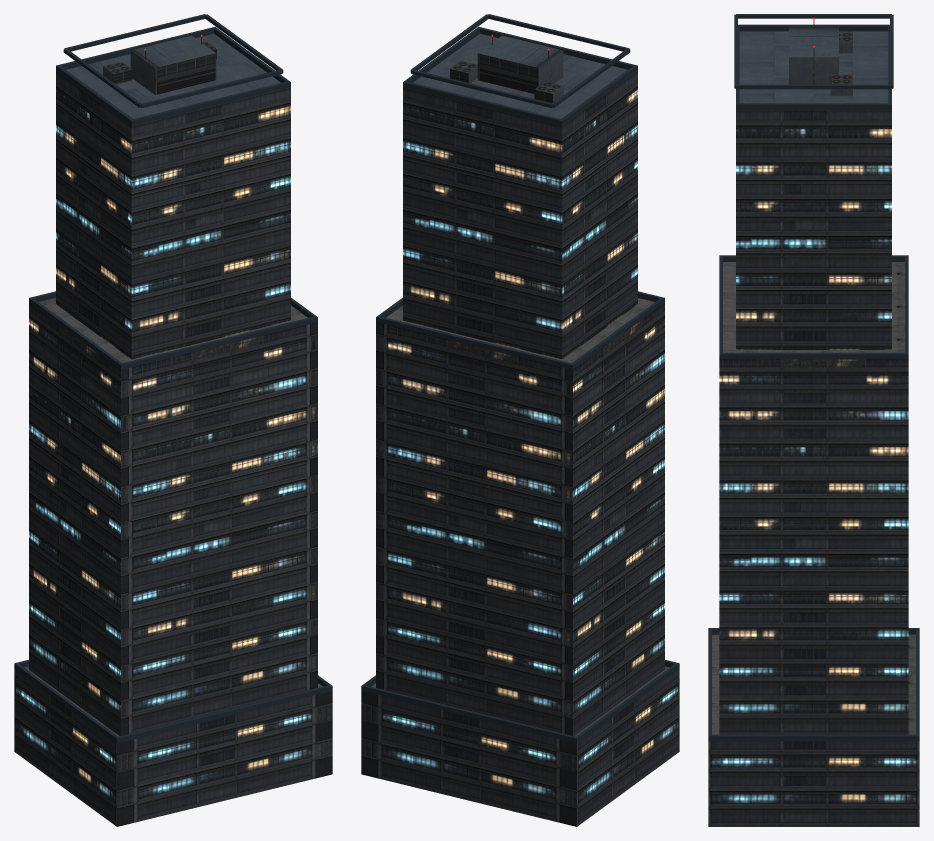
Rendered from commercial-concrete-frame-02.glb.
The picture shows the model from 3 angles, left to right: view 1: azimuth 30°, elevation 25°; view 2: azimuth 150°, elevation 25°; view 3: azimuth 270°, elevation 25°; orthographic projection. The views are drawn at different scales.
Visible parts, largest first — view 1: commercial-concrete-frame-02; view 2: commercial-concrete-frame-02; view 3: commercial-concrete-frame-02.
Boxes of the visible parts, left/top/right/bottom form: commercial-concrete-frame-02: left=14, top=14, right=332, bottom=826; commercial-concrete-frame-02: left=361, top=14, right=679, bottom=826; commercial-concrete-frame-02: left=708, top=14, right=919, bottom=826.
Bounding box in the file's own units: 46 × 147 × 38.
1 material, 1 textured.
